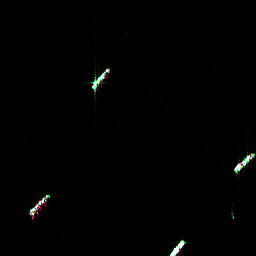ship: (26, 191, 53, 217), (88, 65, 113, 91), (231, 150, 255, 175), (171, 237, 186, 255)
